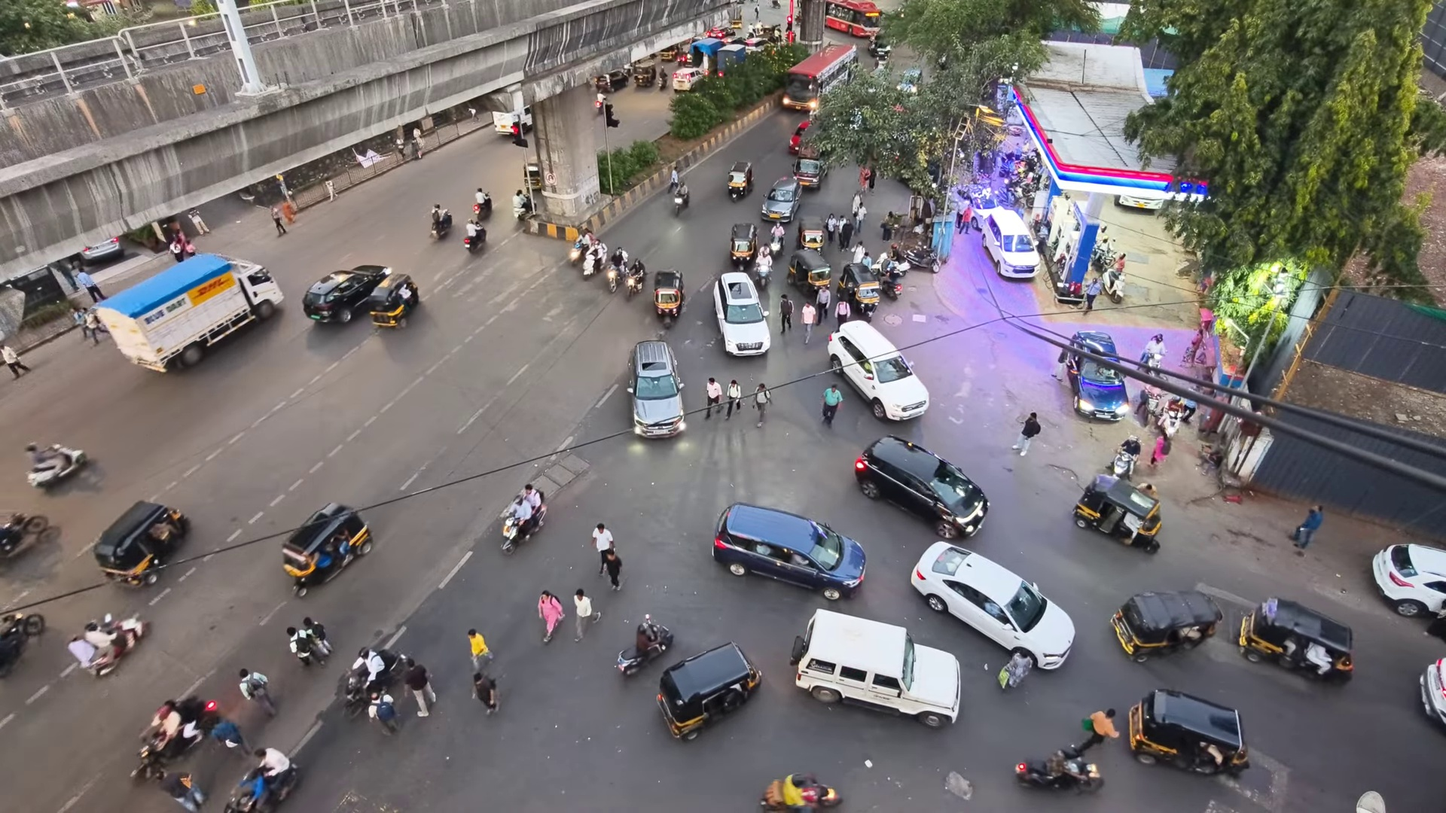driving: (96, 254, 282, 371), (911, 542, 1075, 669), (790, 609, 959, 727), (712, 504, 865, 600), (855, 436, 988, 539), (1127, 690, 1249, 776), (657, 641, 761, 739), (827, 321, 929, 420), (1237, 598, 1353, 683), (282, 503, 371, 597), (91, 501, 190, 585), (1110, 590, 1222, 662), (1074, 473, 1162, 553), (1063, 330, 1130, 421), (627, 340, 685, 437), (1371, 544, 1445, 617), (303, 265, 390, 323), (782, 44, 857, 111), (714, 271, 770, 355), (343, 649, 405, 717), (81, 614, 148, 676), (1017, 746, 1103, 791), (616, 614, 673, 675), (760, 773, 841, 811), (365, 273, 419, 328), (0, 612, 44, 678), (0, 513, 59, 562), (500, 491, 546, 553), (27, 444, 88, 489), (825, 0, 881, 37), (761, 177, 801, 222), (654, 269, 685, 327), (793, 145, 826, 189), (730, 224, 758, 269), (79, 237, 124, 264), (492, 108, 532, 135), (728, 161, 752, 200), (789, 118, 811, 154), (673, 67, 706, 91)
walking: (404, 658, 436, 717), (160, 772, 205, 812), (239, 668, 276, 716), (1078, 708, 1118, 752), (209, 717, 250, 756), (286, 627, 324, 665), (1290, 504, 1322, 549), (538, 590, 564, 643), (574, 588, 600, 641), (368, 692, 397, 735), (591, 522, 614, 575), (1011, 413, 1040, 455), (472, 672, 498, 714), (303, 617, 331, 656), (468, 629, 493, 670), (0, 344, 30, 378), (76, 270, 104, 302), (82, 309, 108, 343), (822, 384, 843, 425), (1149, 433, 1170, 467), (705, 376, 721, 419), (725, 379, 742, 419), (754, 383, 770, 425), (605, 550, 621, 590), (801, 302, 816, 343), (1084, 276, 1101, 312), (779, 294, 793, 332), (816, 286, 830, 324), (881, 211, 897, 242), (270, 205, 286, 235), (839, 220, 855, 250), (825, 213, 839, 245), (168, 236, 184, 263), (835, 298, 850, 325), (854, 202, 866, 231), (850, 189, 862, 218), (413, 126, 422, 158), (852, 242, 866, 262), (867, 166, 877, 191), (861, 166, 871, 191), (670, 164, 679, 191)
